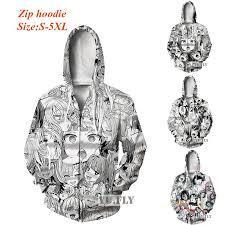sweater: (24, 28, 148, 218), (167, 74, 213, 148), (171, 150, 215, 225), (168, 0, 213, 73)
